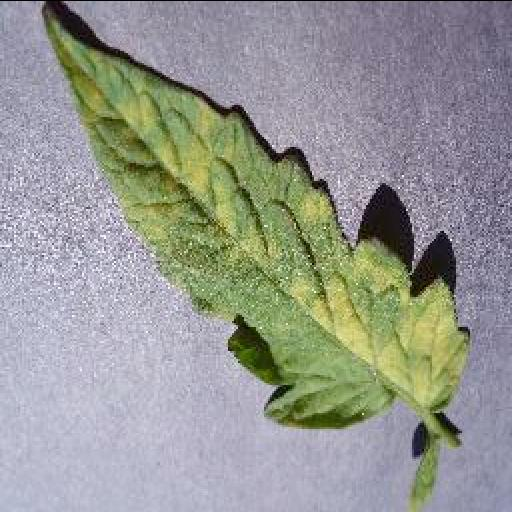disease_tomato: (42, 3, 478, 429)
